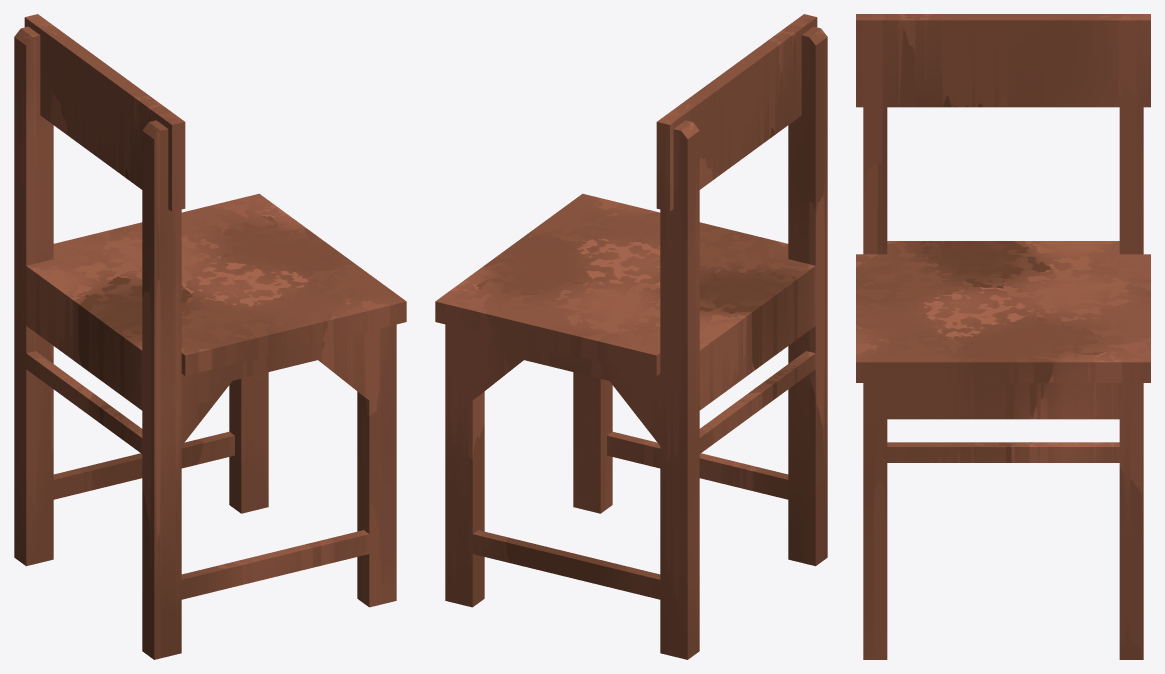
The model's file is kursi.fbx.
3 renders of one model, left to right at view 1: azimuth 30°, elevation 25°; view 2: azimuth 150°, elevation 25°; view 3: azimuth 270°, elevation 25°, orthographic.
Visible parts, largest first — view 1: Cube.005; view 2: Cube.005; view 3: Cube.005.
Boxes of the visible parts, left/top/right/bottom form: Cube.005: left=14, top=14, right=406, bottom=659; Cube.005: left=435, top=14, right=827, bottom=659; Cube.005: left=856, top=14, right=1150, bottom=659.
Size of the model in its own units: 195 by 400 by 200.
